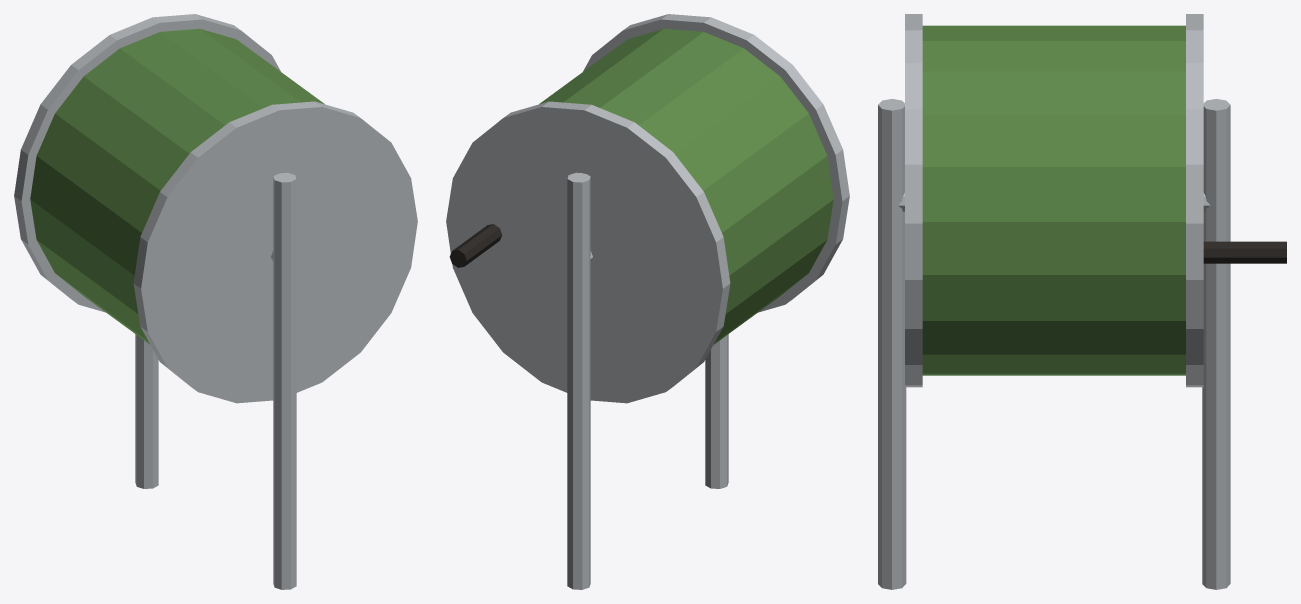
Rendered from hh_hose_reel.glb.
3 views of the same model, side by side, from view 1: azimuth 30°, elevation 25°; view 2: azimuth 150°, elevation 25°; view 3: azimuth 270°, elevation 25° (orthographic). The views are drawn at different scales.
Visible parts, largest first — view 1: flange, hose, stand, flange.001, stand.001; view 2: flange.001, hose, stand.001, flange, stand, crank; view 3: hose, stand, stand.001, flange, flange.001, crank.
Part boxes in pixels (x1=…): flange: x1=133, y1=101, x2=417, y2=403; hose: x1=30, y1=28, x2=324, y2=344; stand: x1=273, y1=172, x2=296, y2=589; flange.001: x1=14, y1=14, x2=280, y2=312; stand.001: x1=135, y1=334, x2=158, y2=488; flange.001: x1=446, y1=101, x2=730, y2=403; hose: x1=539, y1=28, x2=833, y2=344; stand.001: x1=567, y1=172, x2=590, y2=589; flange: x1=583, y1=14, x2=849, y2=312; stand: x1=705, y1=334, x2=728, y2=488; crank: x1=449, y1=224, x2=501, y2=267; hose: x1=922, y1=25, x2=1185, y2=375; stand: x1=878, y1=99, x2=906, y2=589; stand.001: x1=1202, y1=99, x2=1230, y2=589; flange: x1=905, y1=14, x2=922, y2=387; flange.001: x1=1186, y1=14, x2=1203, y2=387; crank: x1=1203, y1=241, x2=1286, y2=263.
Size of the model in its own units: 0.32 by 0.52 by 0.348.
